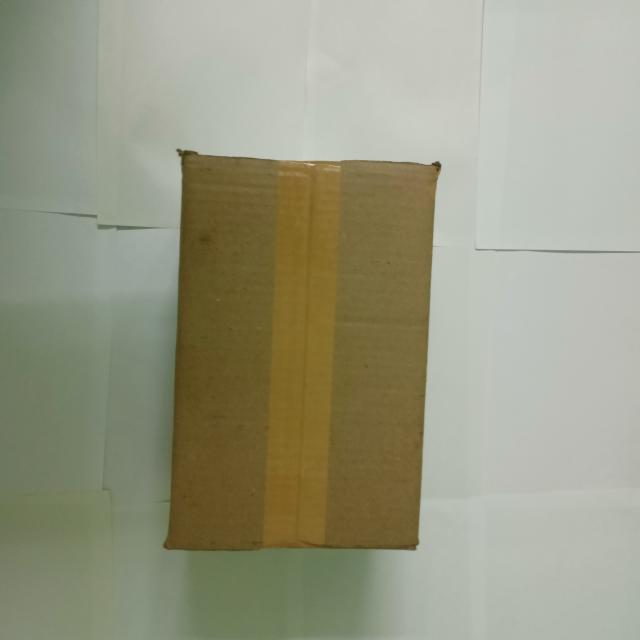box: (164, 153, 442, 555)
